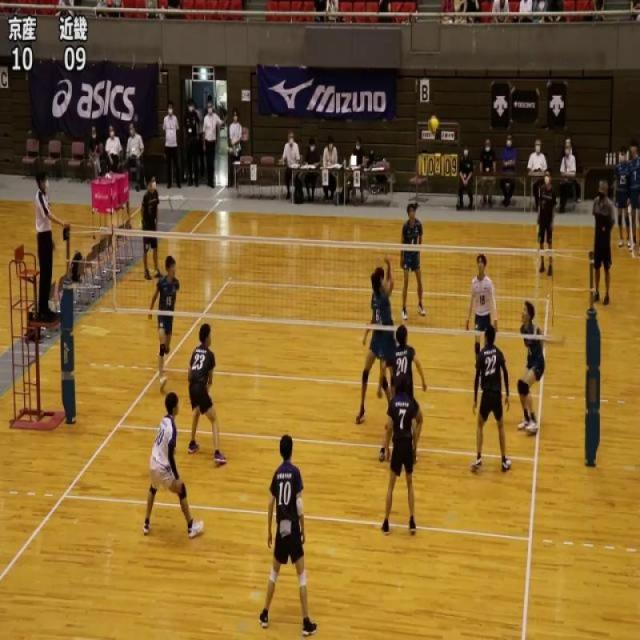volleyball: (428, 114, 440, 137)
